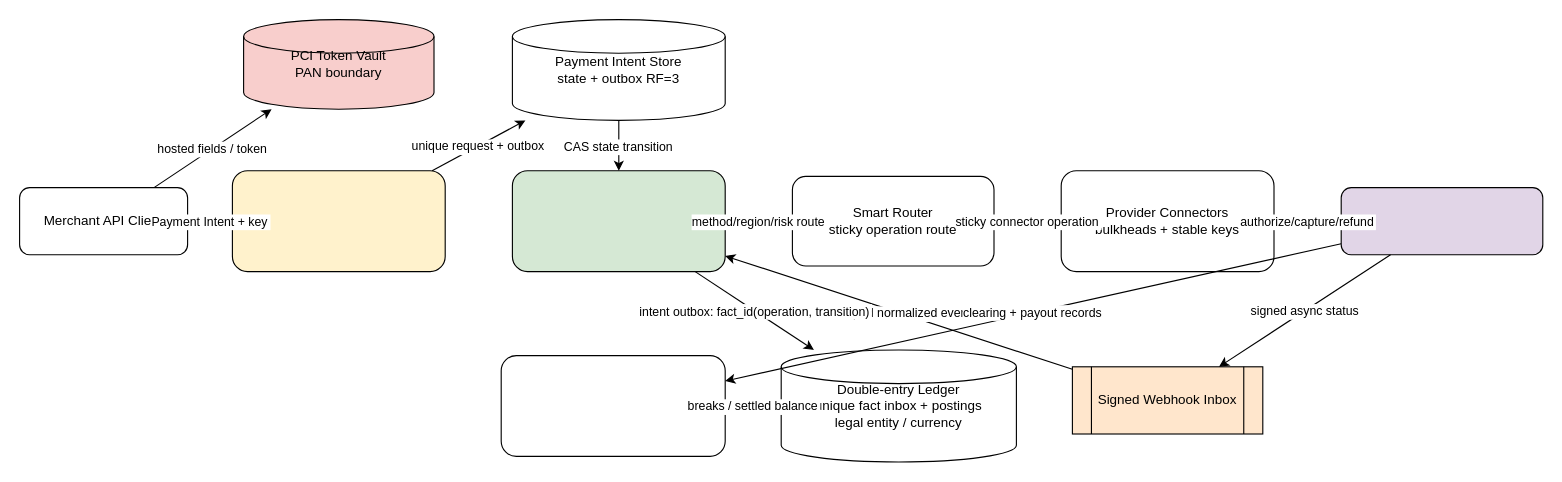
The diagram is 1562 pixels wide and 482 high, and some of its shapes have lost their labels. Here are the shapes that lost their labels. From the top down, the centre of each, then its label:
(x=338, y=221): Global API Gateway idempotency + region route
(x=618, y=221): Payment Orchestrator versioned state machine
(x=1441, y=220): Acquirers / Wallets / Banks
(x=612, y=405): Settlement + Reconciliation Payout / Cases
